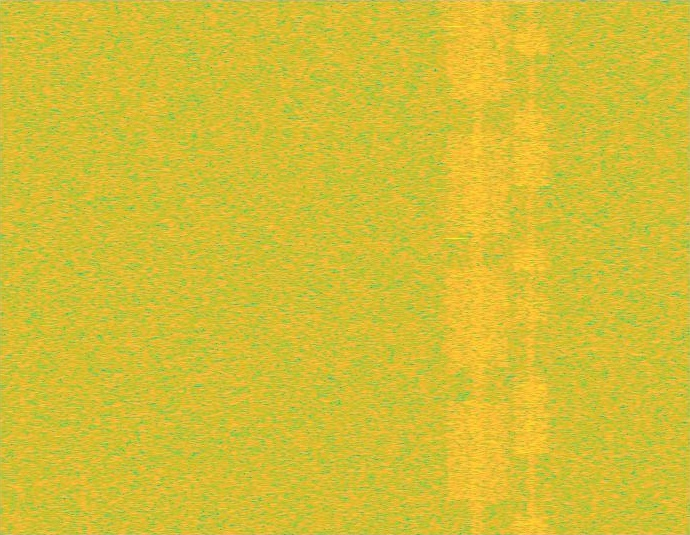5G: (443, 0, 512, 534)
DSSS: (470, 0, 486, 534), (527, 0, 535, 534)
LTE: (514, 0, 548, 534)
Radar: (450, 0, 464, 534)
